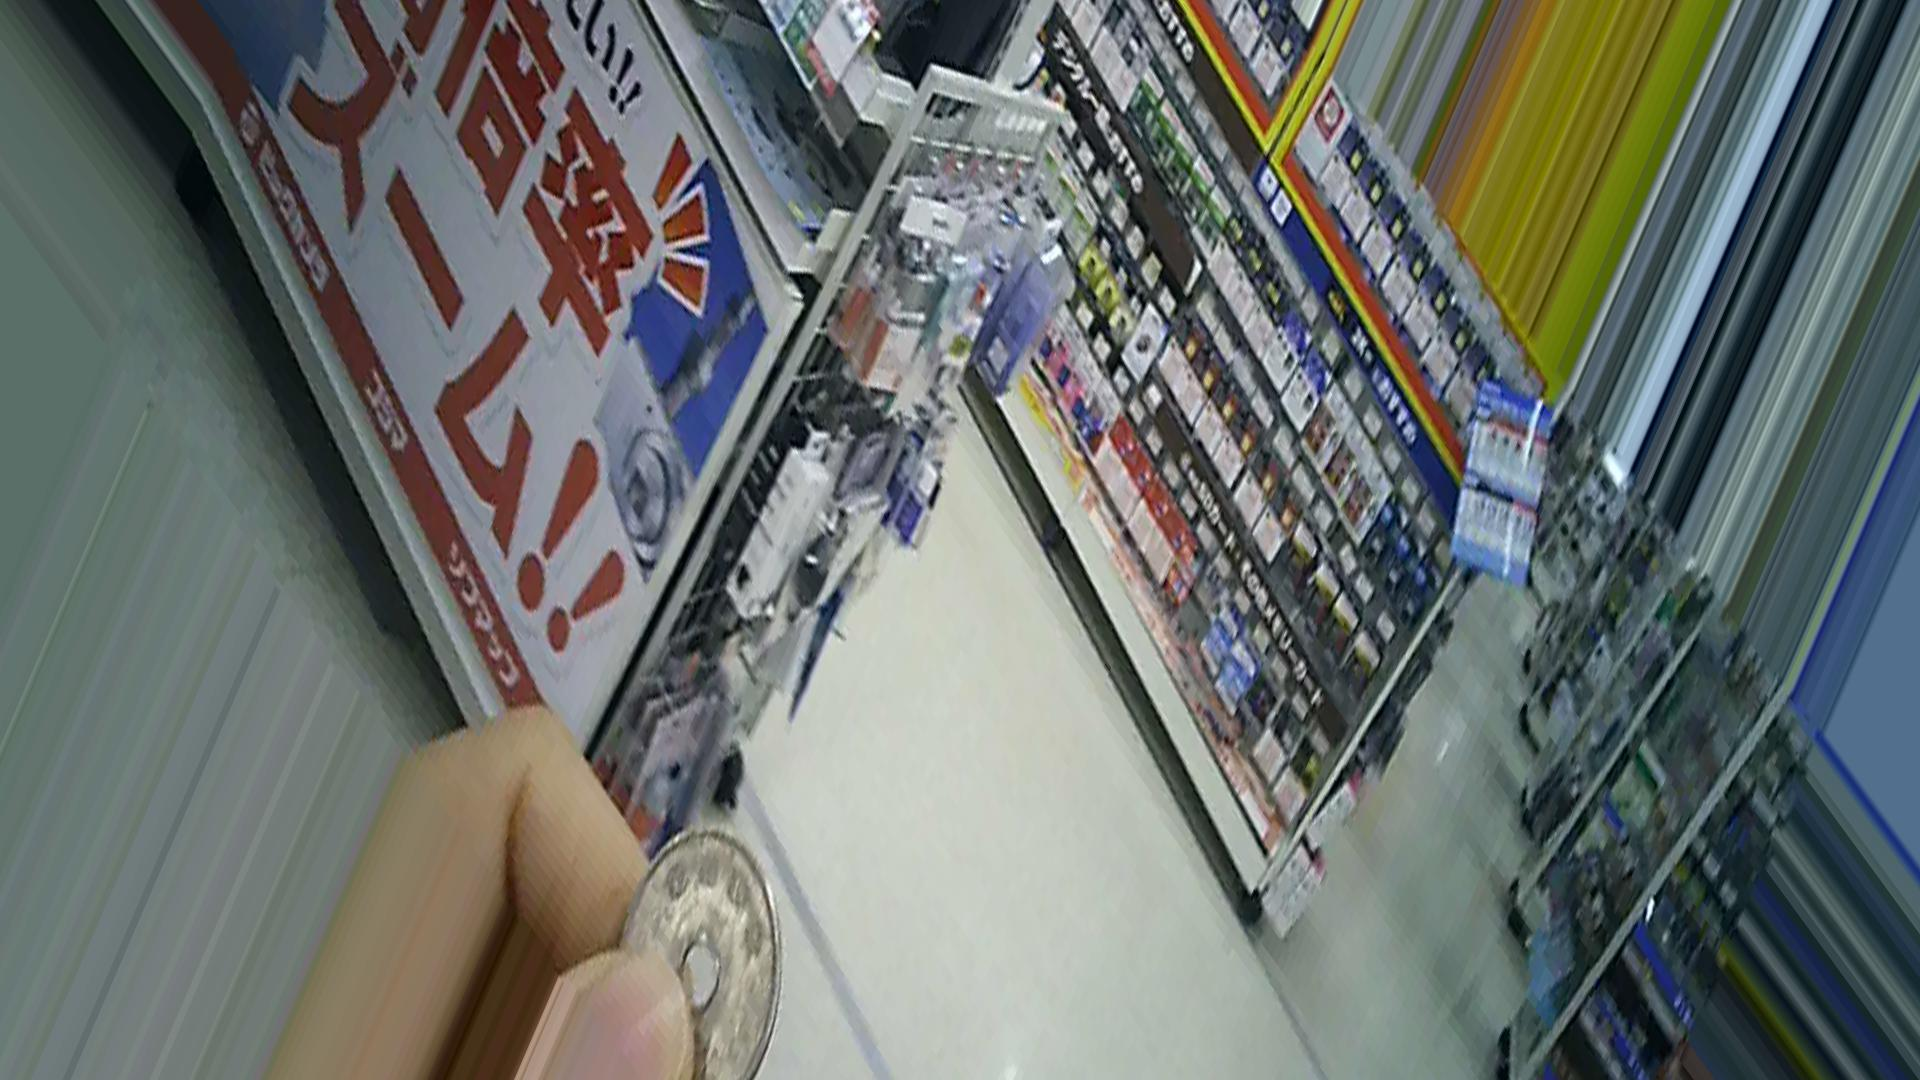50 Yen: (615, 822, 787, 1079)
